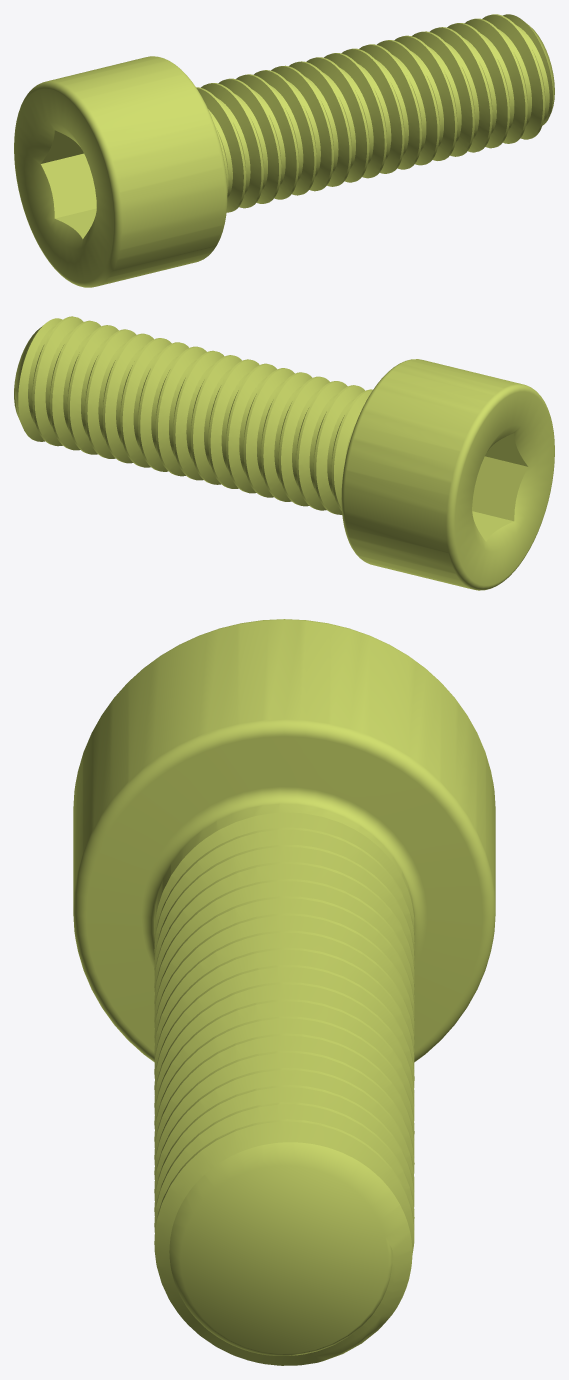
3 views of the same model, one above another, from view 1: azimuth 30°, elevation 25°; view 2: azimuth 150°, elevation 25°; view 3: azimuth 270°, elevation 25° (orthographic). The views are drawn at different scales.
Visible parts, largest first — view 1: Object_2; view 2: Object_2; view 3: Object_2.
Boxes of the visible parts, x1,y1,x2,y2 form: Object_2: (14, 14, 554, 287); Object_2: (14, 316, 554, 590); Object_2: (73, 619, 495, 1365).
Bounding box in the file's own units: 1 × 0.3939 × 0.3939.
